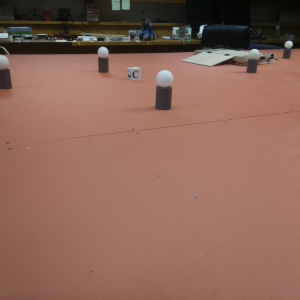blockC: (129, 67, 141, 81)
obstacle: (153, 69, 174, 109), (247, 48, 261, 75), (96, 46, 109, 74), (1, 54, 10, 89), (282, 39, 295, 59)
side: (252, 52, 276, 66)
slope: (183, 54, 234, 66)
